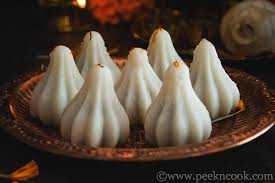modak: (147, 59, 213, 152), (72, 62, 135, 156), (31, 40, 87, 126), (187, 40, 245, 123), (112, 44, 166, 122), (72, 28, 128, 90), (147, 25, 193, 82)
